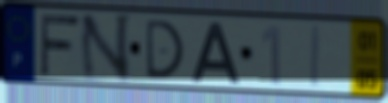1: (261, 23, 282, 87)
A: (189, 20, 242, 85)
D: (143, 18, 187, 82)
F: (38, 12, 83, 78)
I: (308, 23, 323, 91)
N: (77, 12, 134, 84)
